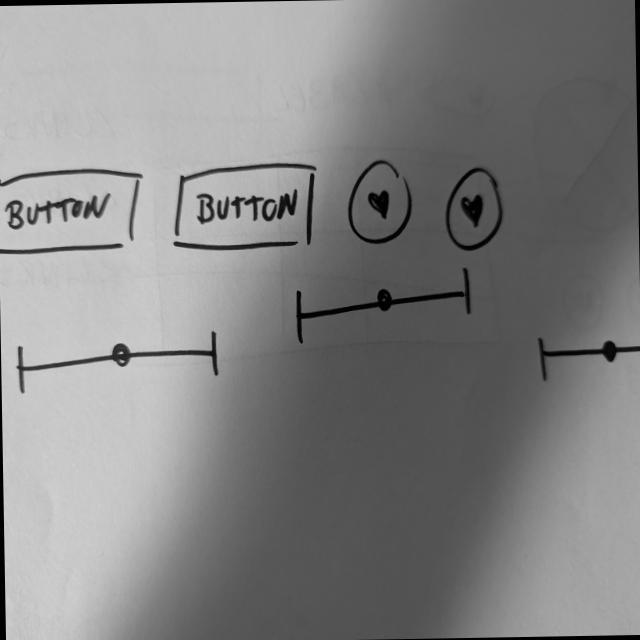button: (170, 158, 321, 254), (1, 167, 147, 258)
icon-button: (344, 157, 417, 250), (441, 164, 509, 252)
slider: (290, 263, 478, 347), (16, 324, 223, 394), (533, 332, 640, 385)
